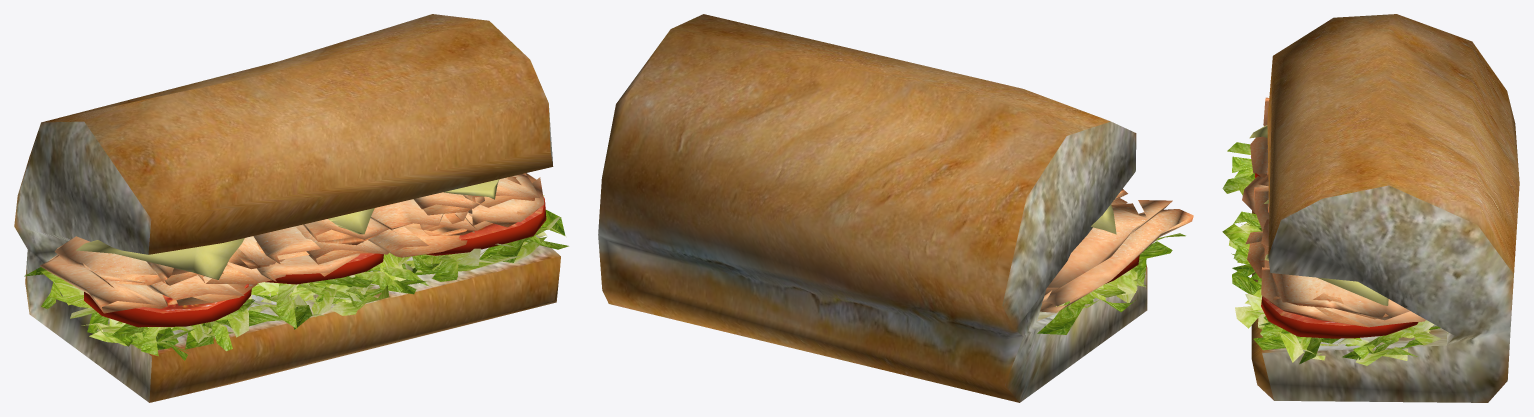
The picture shows the model from 3 angles, left to right: view 1: azimuth 30°, elevation 25°; view 2: azimuth 150°, elevation 25°; view 3: azimuth 270°, elevation 25°; orthographic projection. The views are drawn at different scales.
Parts seen in each view (by area): view 1: bread_Cube.001, meat_Plane.042, lettuce_Plane.010, tomatoes_Circle.006, cheese_Plane.046; view 2: bread_Cube.001, meat_Plane.042, lettuce_Plane.010; view 3: bread_Cube.001, meat_Plane.042, lettuce_Plane.010, tomatoes_Circle.006, cheese_Plane.046.
Boxes of the visible parts, x1,y1,x2,y2 form: bread_Cube.001: (14, 14, 560, 402); meat_Plane.042: (39, 173, 544, 313); lettuce_Plane.010: (24, 195, 568, 360); tomatoes_Circle.006: (84, 196, 546, 327); cheese_Plane.046: (76, 179, 499, 279); bread_Cube.001: (598, 14, 1147, 402); meat_Plane.042: (1040, 189, 1193, 312); lettuce_Plane.010: (1037, 233, 1185, 334); bread_Cube.001: (1251, 14, 1519, 402); meat_Plane.042: (1242, 97, 1426, 327); lettuce_Plane.010: (1222, 142, 1441, 365); tomatoes_Circle.006: (1254, 173, 1418, 338); cheese_Plane.046: (1249, 125, 1388, 305).
Size of the model in its own units: 3.4 by 1.61 by 1.97.
5 materials, 5 textured.
